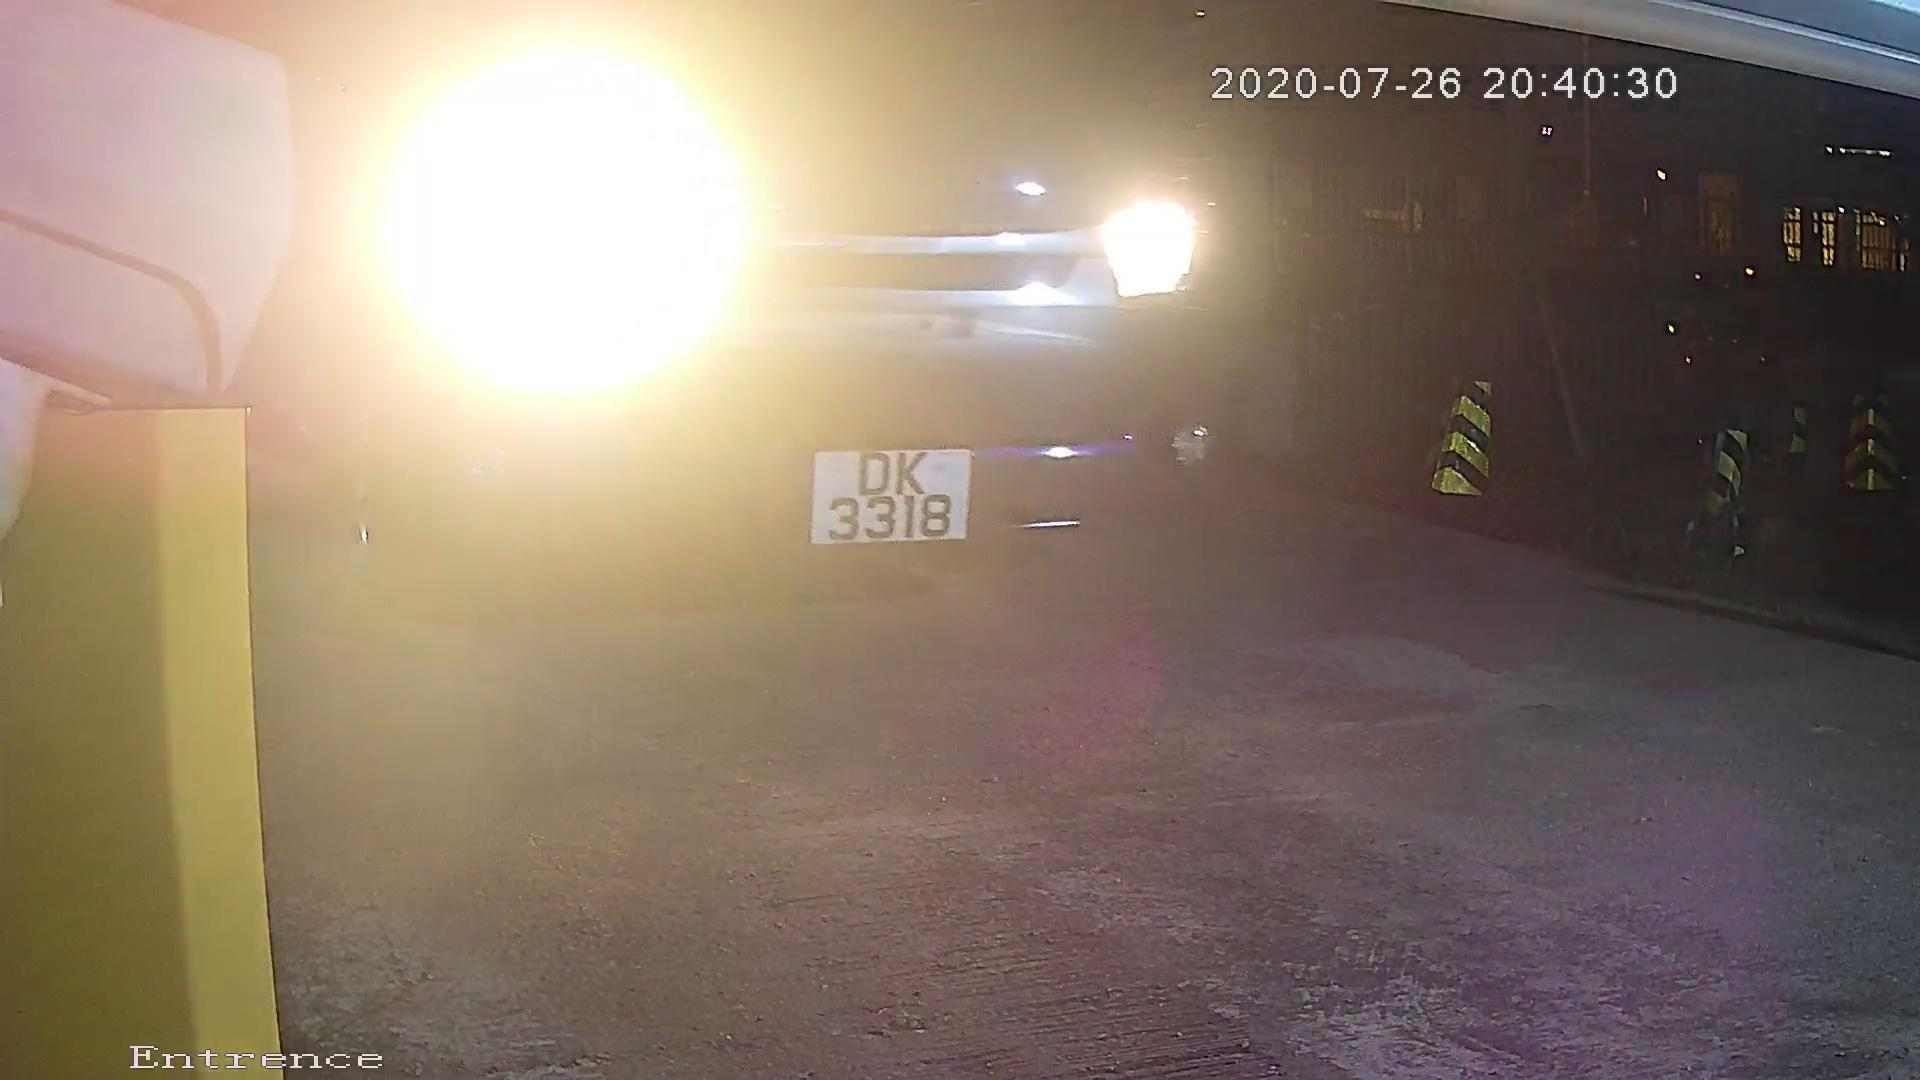Car: (86, 29, 1509, 796)
License Plate: (755, 396, 995, 565)
